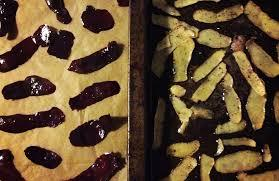Organic: (0, 1, 279, 178)
